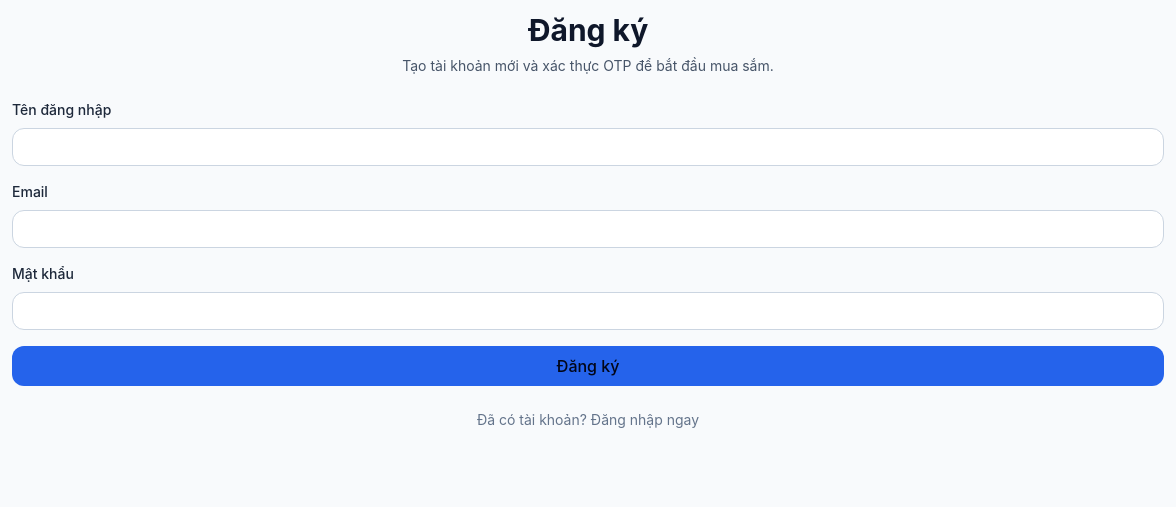
Test: RegisterPage › shows accessible validation feedback instead of browser alerts
Type "alice" into the field labelled "Tên đăng nhập" at (588, 147), box [12,128,1164,166]
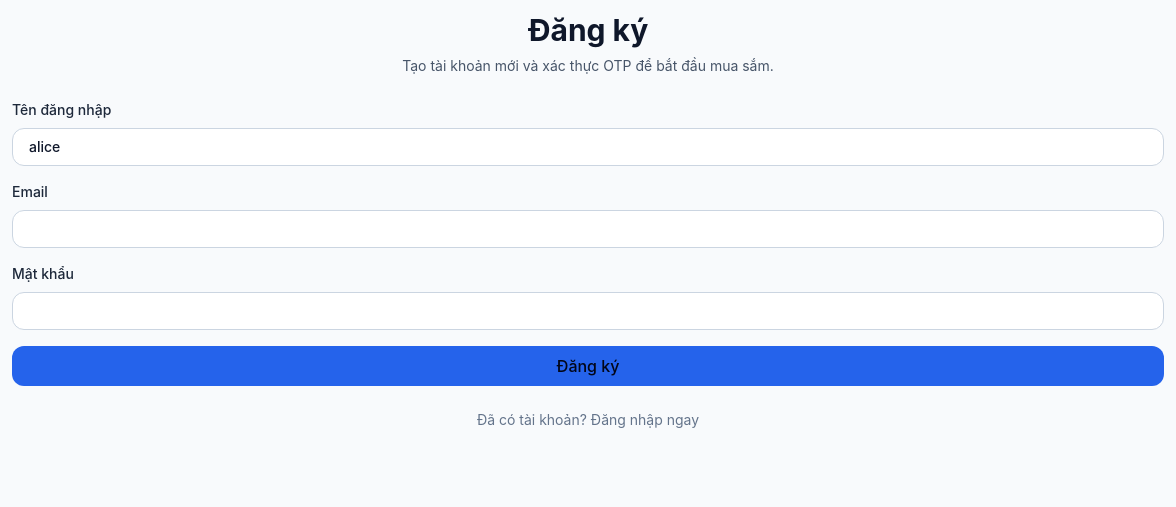
Type "alice@example.com" into the field labelled "Email" at (588, 229), box [12,210,1164,248]
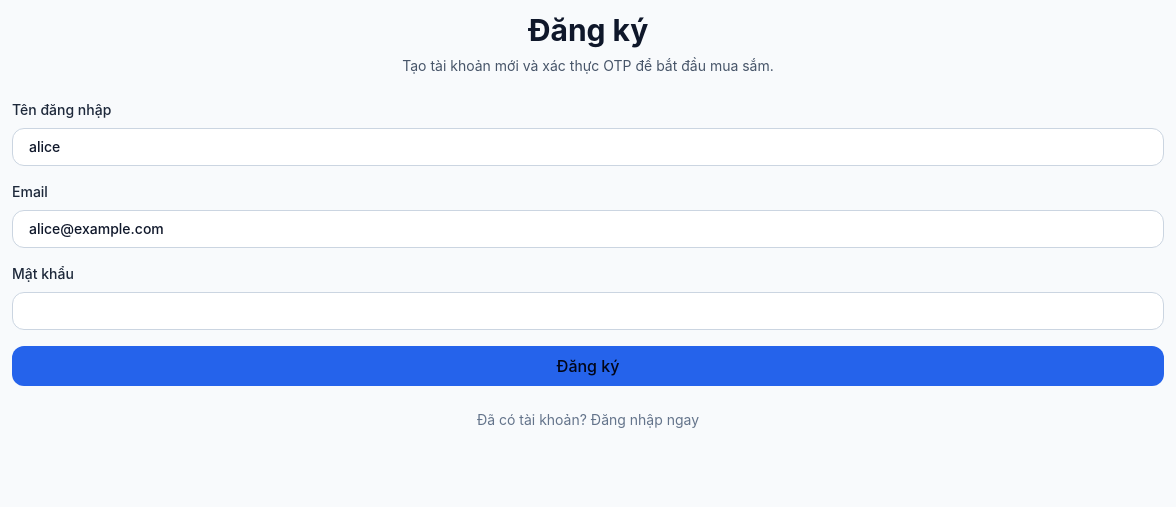
Type "weak" into the password field labelled "Mật khẩu" at (588, 311), box [12,292,1164,330]
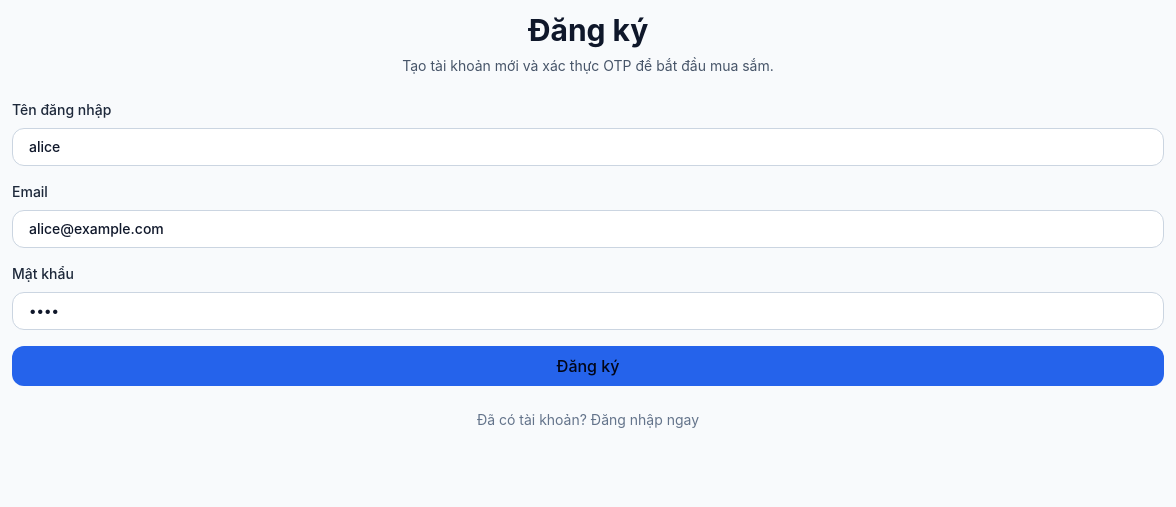
Click the button "Đăng ký" at (588, 366), box [12,346,1164,386]
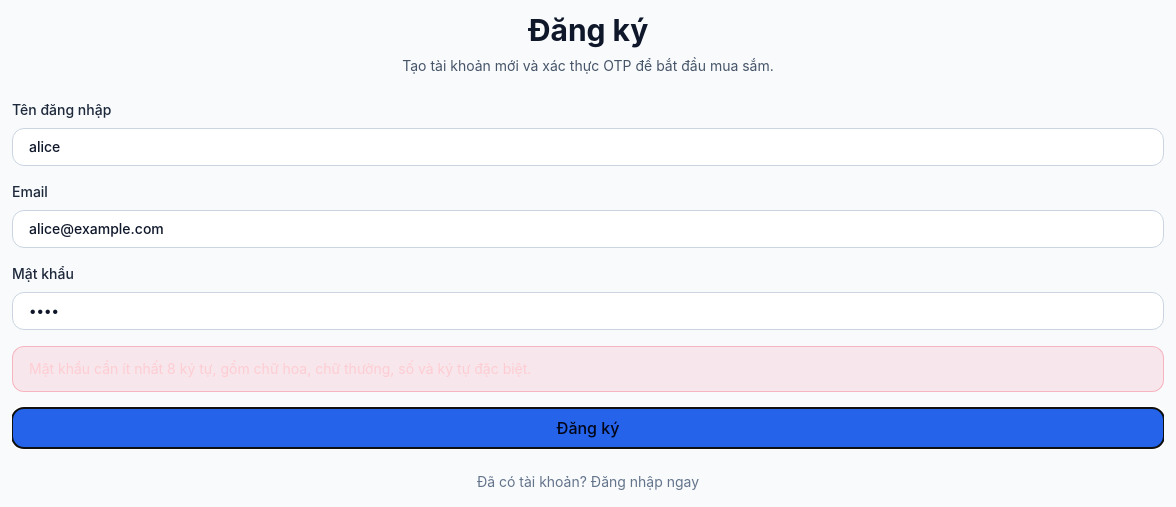
Result: the message shows "Mật khẩu" at [29,360,531,377]
